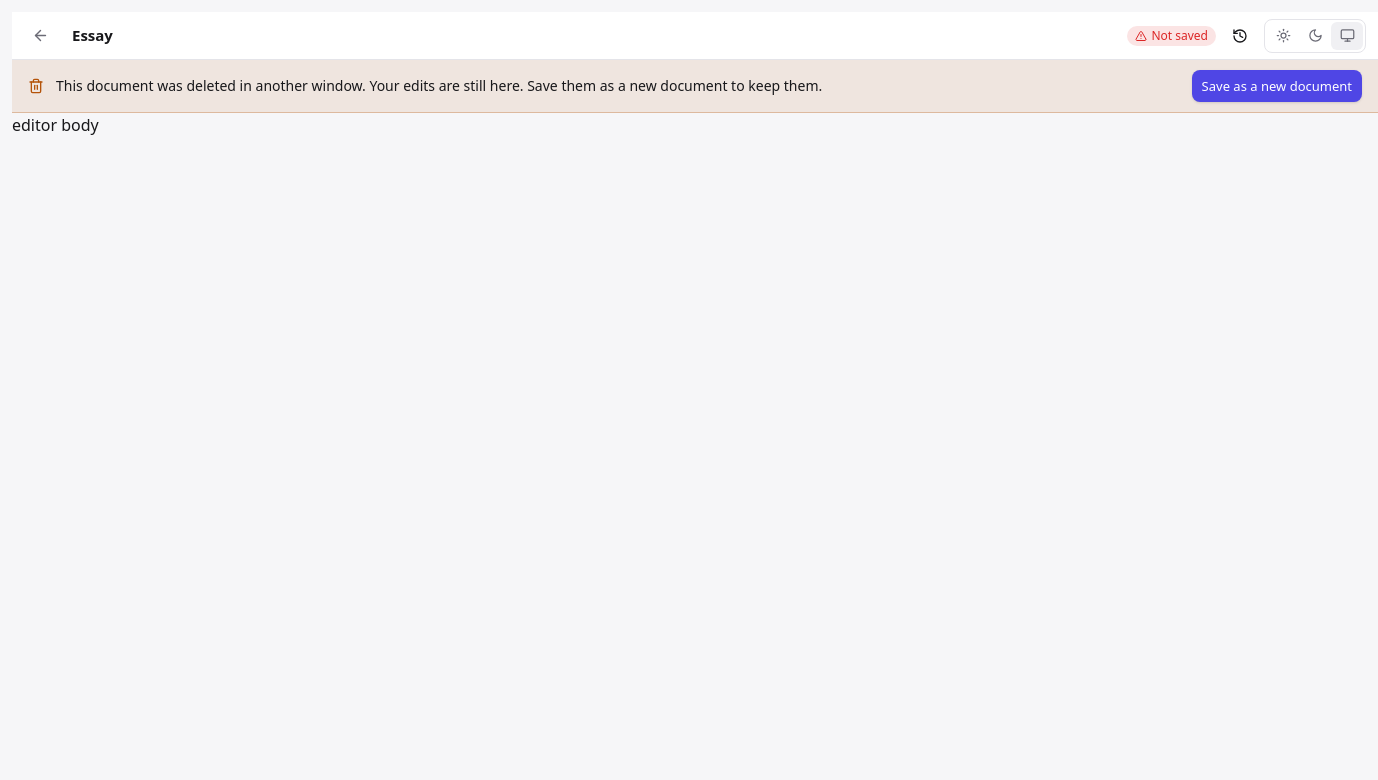
it: EditorFrame save problems › deleted in another window: edits kept, Save as a new document opens the copy
The image size is (1378, 780).
Expected: the message that starts with "This" shows "This document was deleted in another window. Your edits are still here.", [12,60,1377,113]
Expected: the message "Not saved" is shown, [1127,24,1216,48]
Click the button "Save as a new document": coordinates (1277, 86) [1192,70,1362,102]
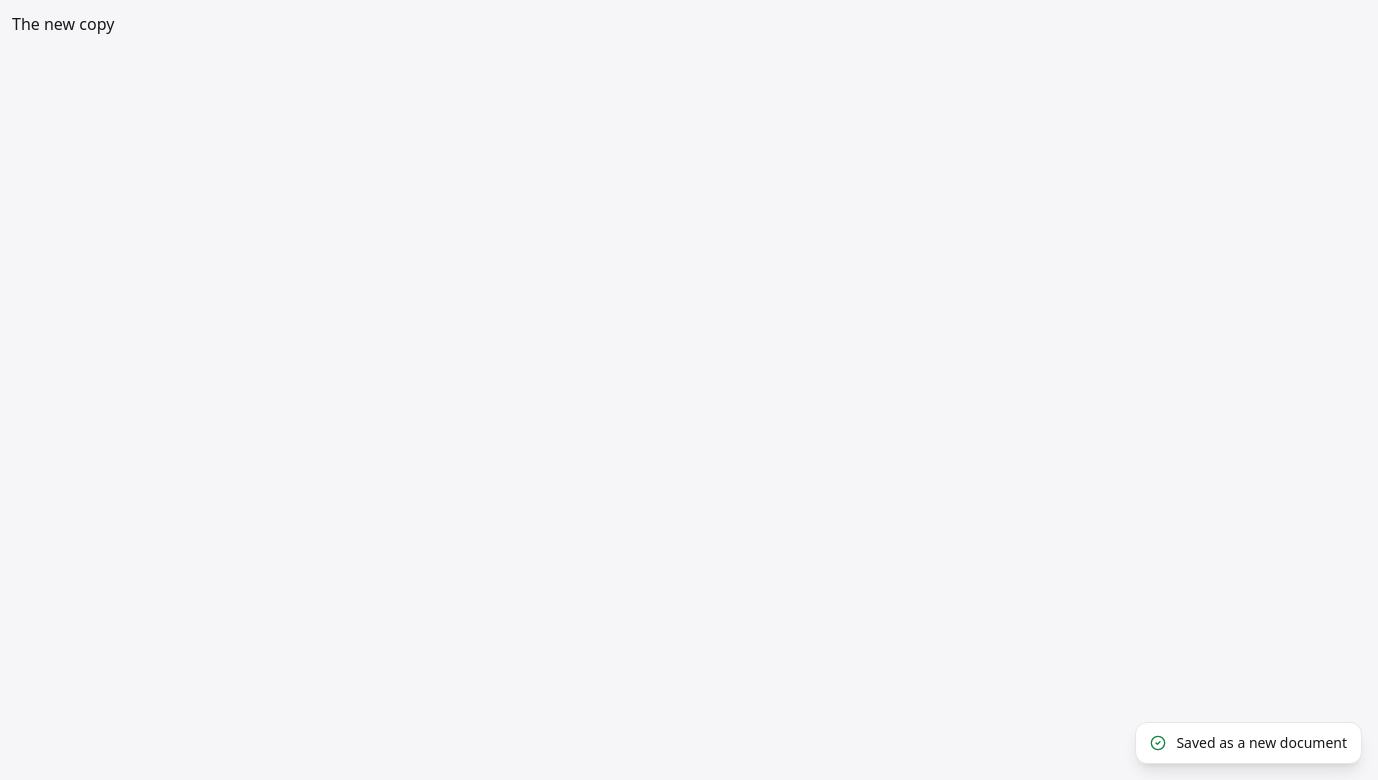
Expected: the text "The new copy" is shown, [12,13,114,35]
